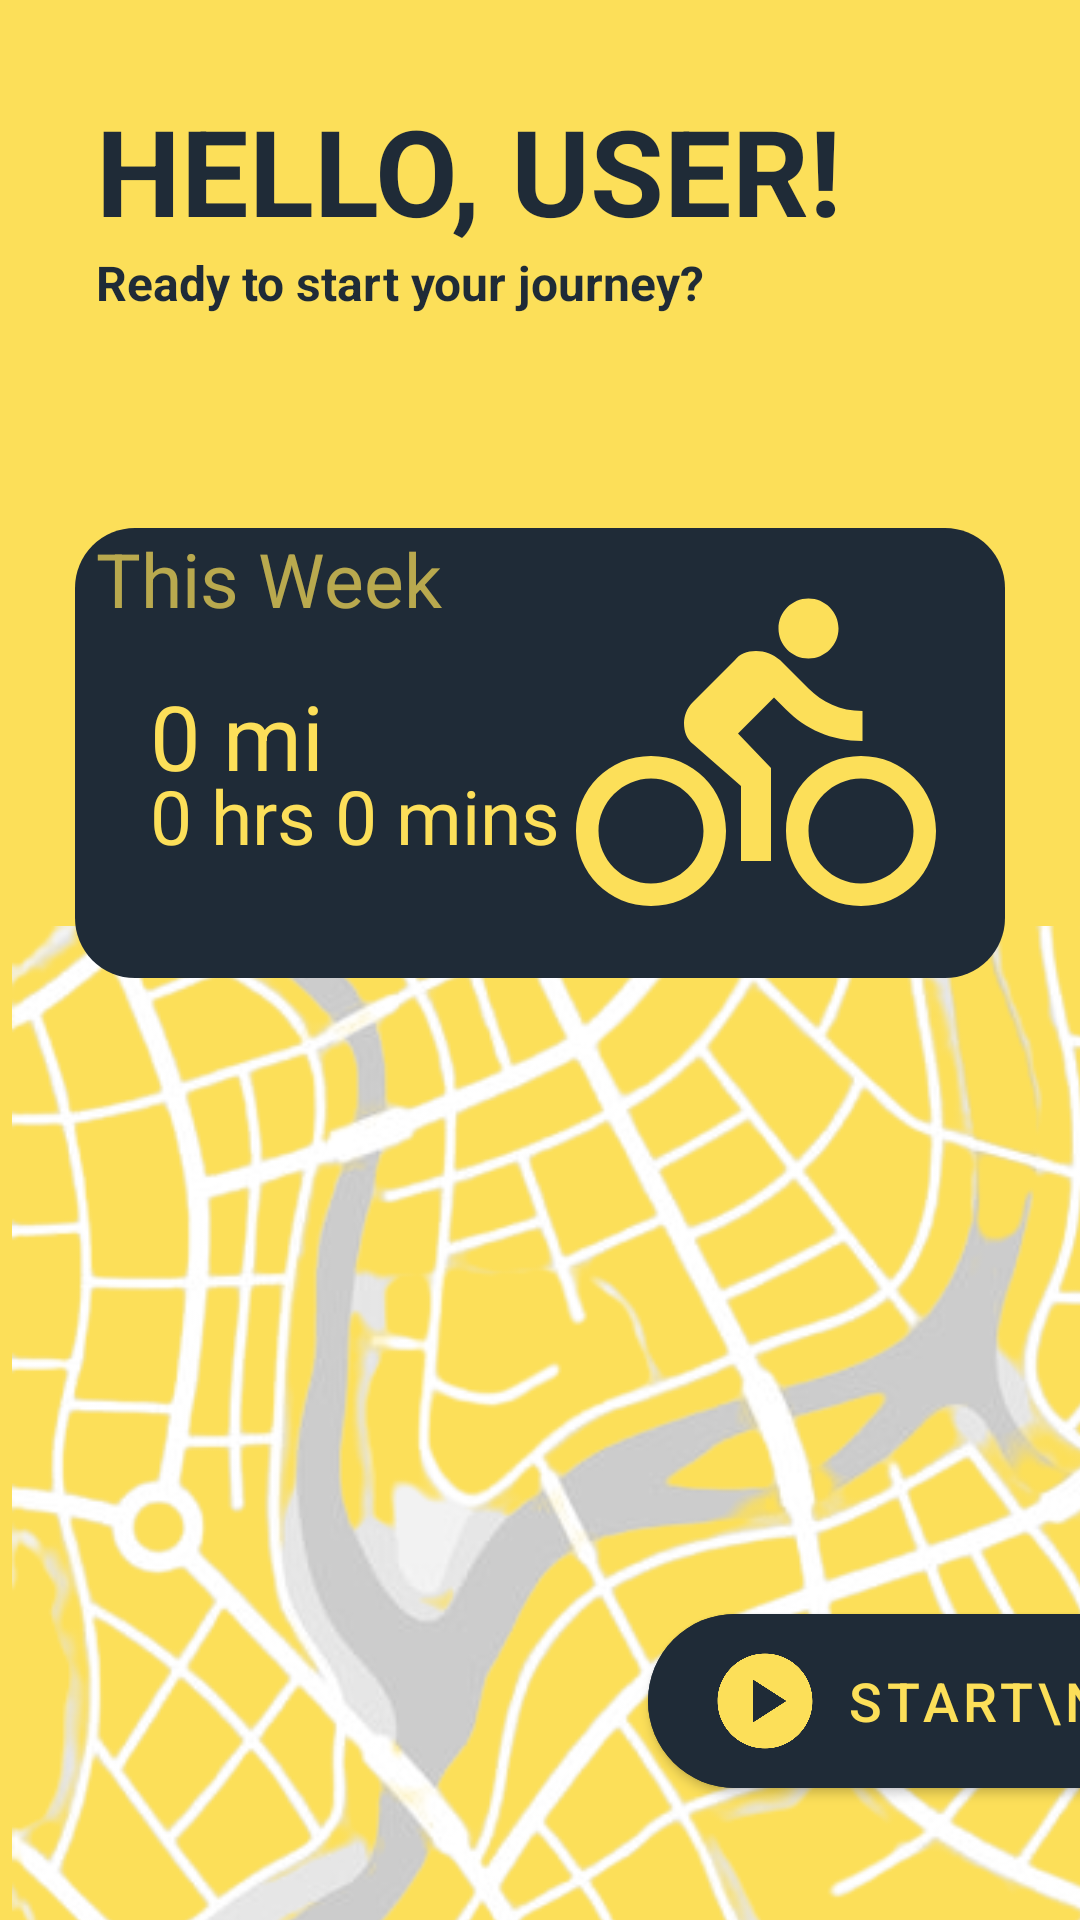

Where to tap for icons on this 1080×1920 app screen, as point (x, y):
bike: point (756, 752)
